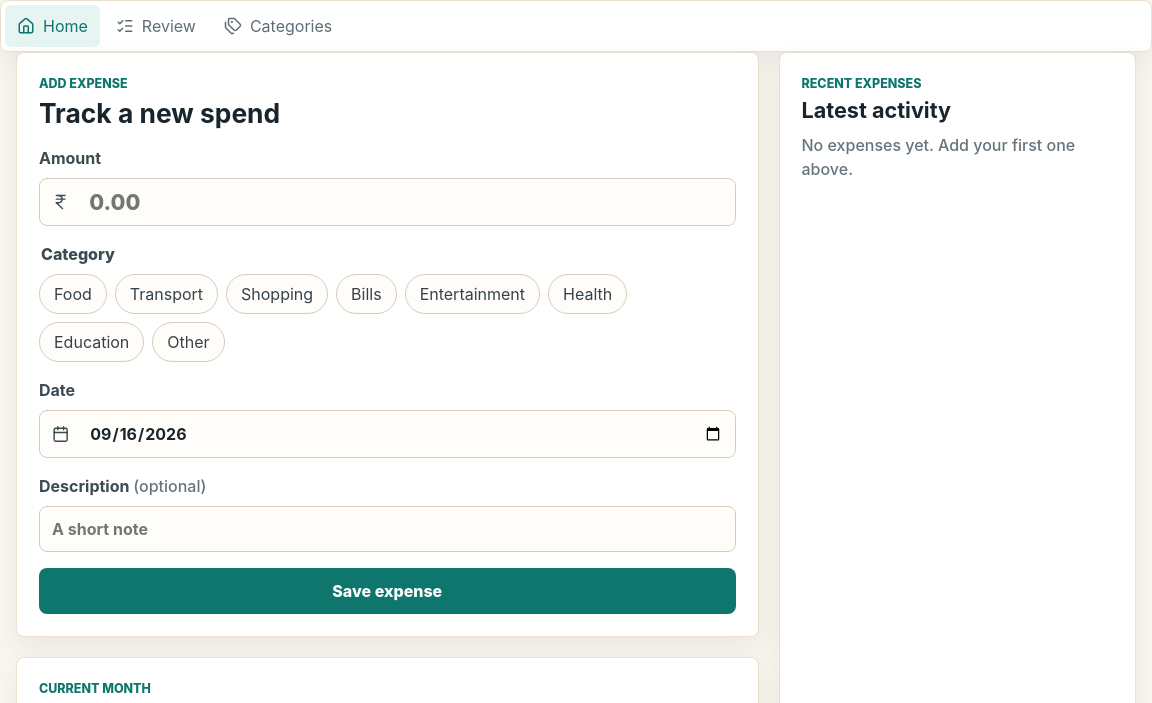
Test case: Home shell › refreshes recent expenses after a successful create
Expected: the text "No expenses yet. Add your first one above." is shown, [802,133,1113,181]
Click the button "Food".
click(73, 294)  # box [39,274,107,314]
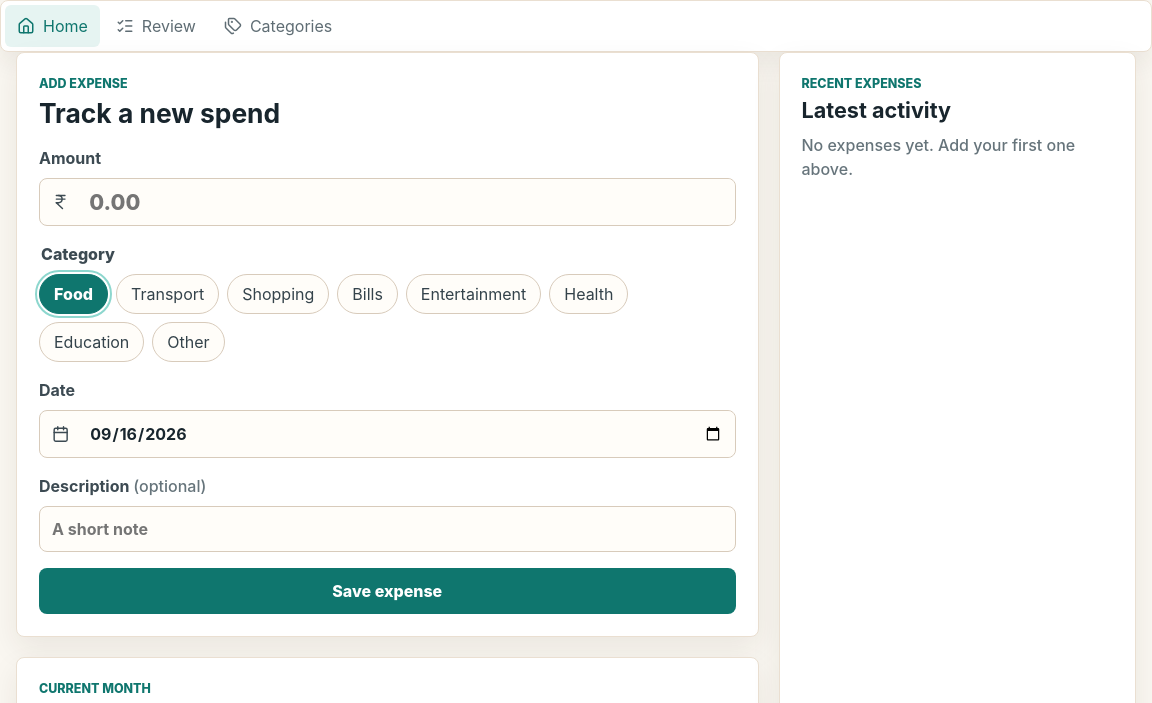
Type "125.50" into the field labelled "Amount".
click(406, 202); type("125.50")  # box [77,179,734,225]
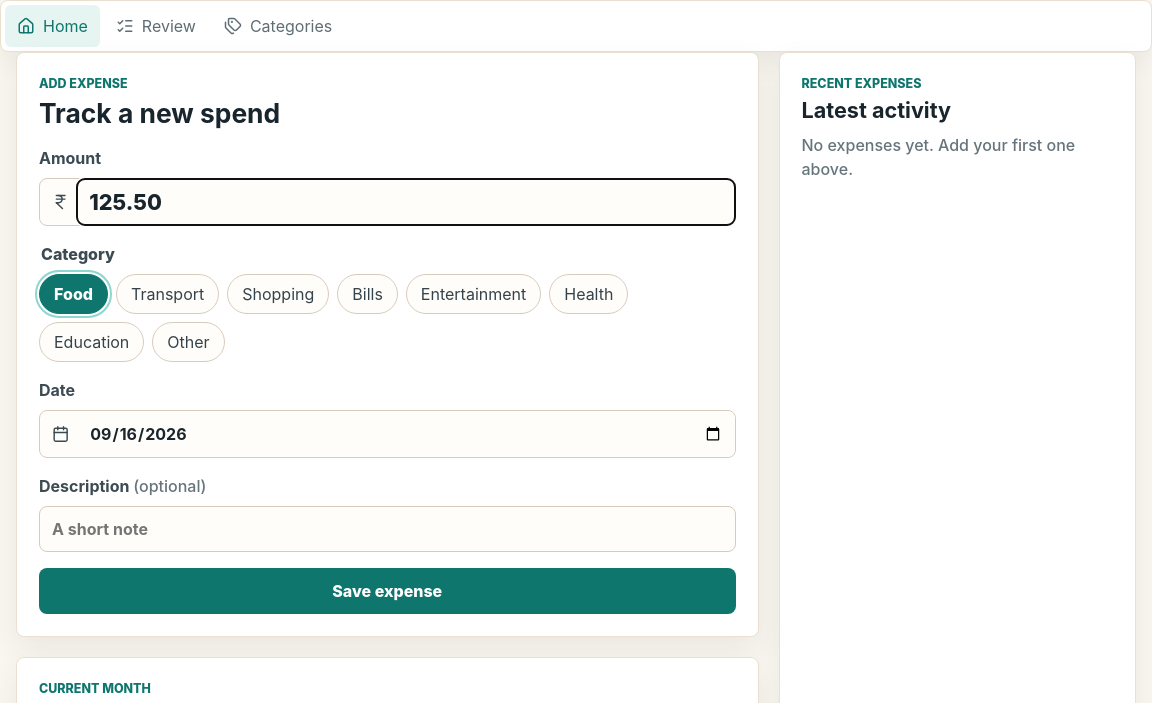
Click the button "Save expense".
click(387, 591)  # box [39,568,736,614]
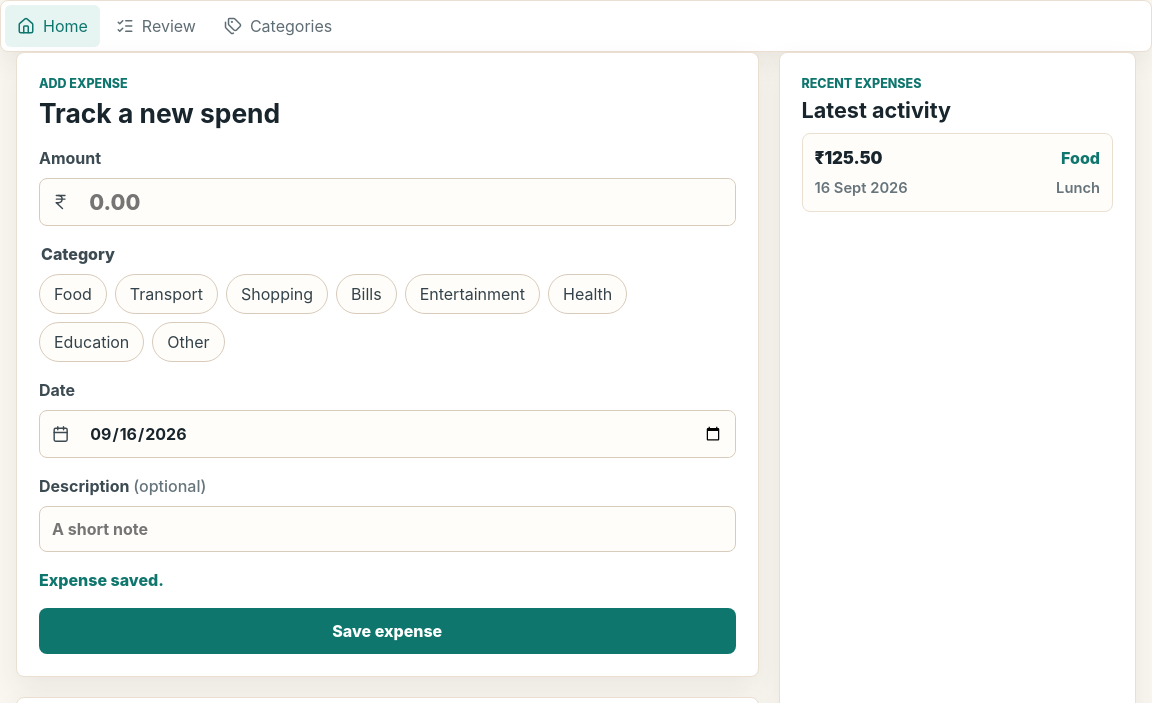
Expected: the text "Expense saved." is shown, [39,570,164,590]
Expected: the link "₹125.50 Food 16 Sept 2026 Lunch" is shown, [802,133,1113,212]
